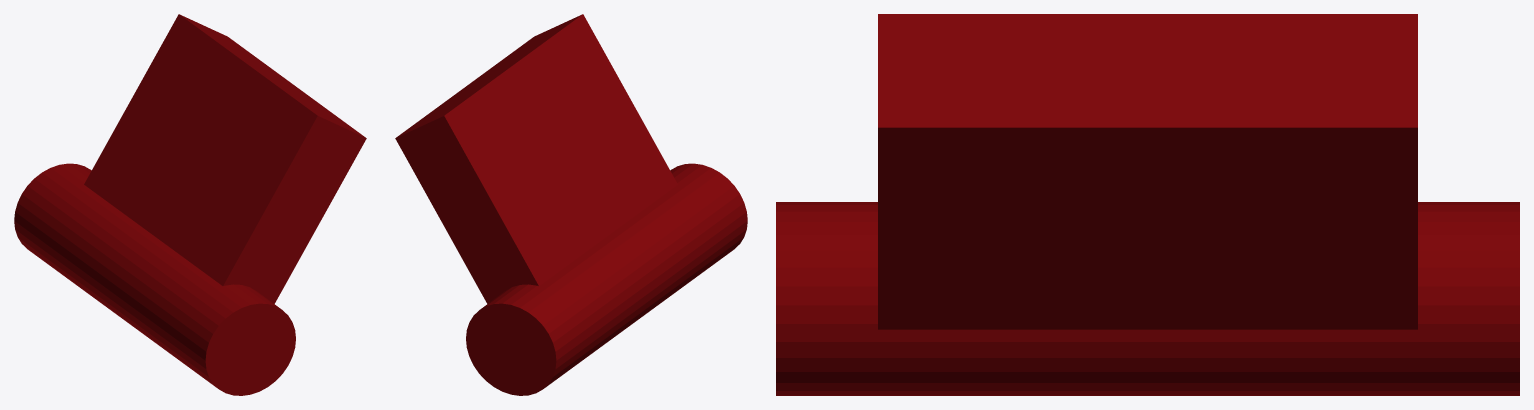
The model's file is Fuse Switch.fbx.
The picture shows the model from 3 angles, left to right: view 1: azimuth 30°, elevation 25°; view 2: azimuth 150°, elevation 25°; view 3: azimuth 270°, elevation 25°; orthographic projection. The views are drawn at different scales.
Visible parts, largest first — view 1: Cube, Cylinder; view 2: Cube, Cylinder; view 3: Cube, Cylinder.
Part boxes in pixels (x1,y1,x2,y2): Cube: (84,14,366,303); Cylinder: (14,163,295,395); Cube: (395,14,677,303); Cylinder: (466,163,747,395); Cube: (878,14,1417,329); Cylinder: (776,202,1519,395).
Size of the model in its own units: 27.23 by 32.91 by 48.16.
